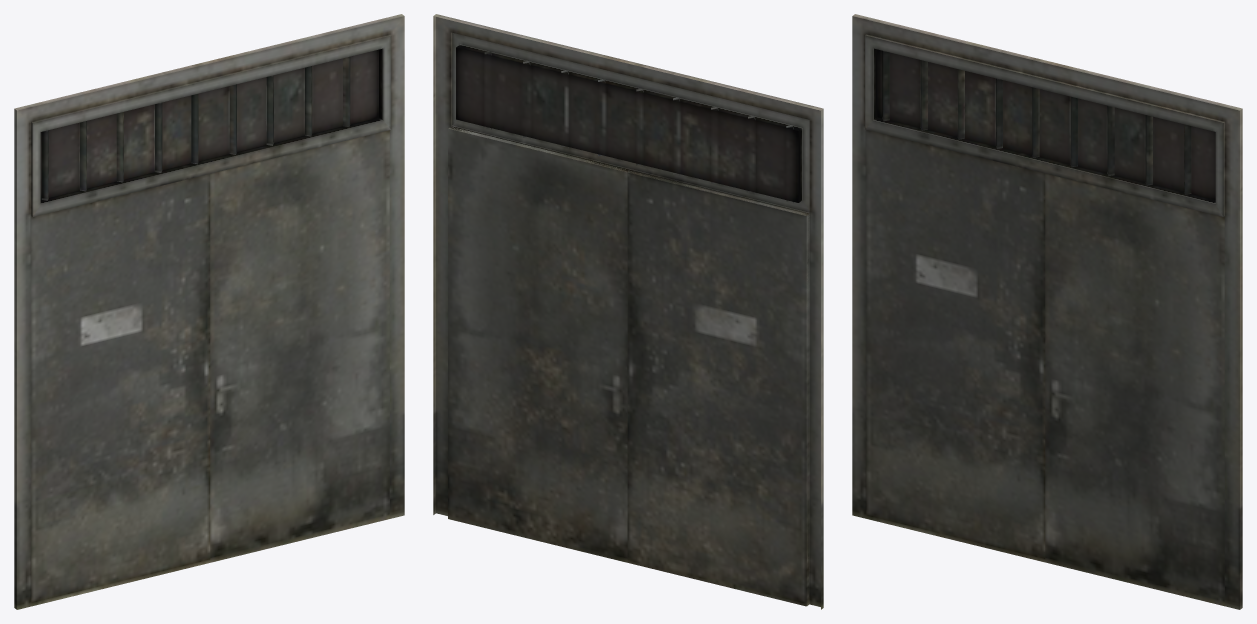
The model's file is MetalDoor_Still.FBX.
The picture shows the model from 3 angles, left to right: view 1: azimuth 30°, elevation 25°; view 2: azimuth 150°, elevation 25°; view 3: azimuth 330°, elevation 25°; orthographic projection.
Parts seen in each view (by area): view 1: MetalDoor_Still; view 2: MetalDoor_Still; view 3: MetalDoor_Still.
Boxes of the visible parts, x1=… form: MetalDoor_Still: x1=14, y1=14, x2=404, y2=609; MetalDoor_Still: x1=433, y1=14, x2=823, y2=609; MetalDoor_Still: x1=852, y1=14, x2=1242, y2=609.
Bounding box in the file's own units: 281 × 345 × 5.37.
